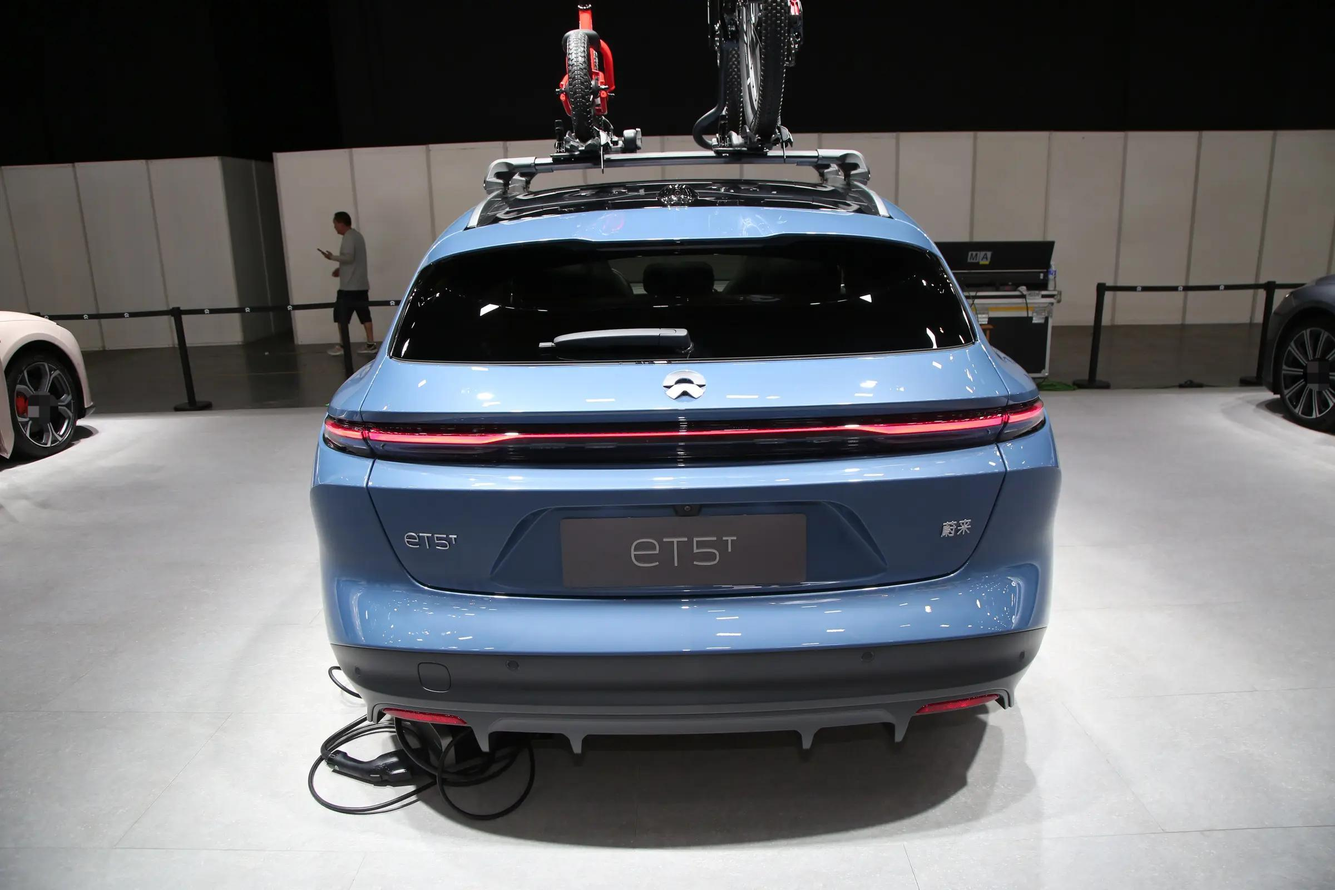NIO: (661, 369, 705, 401)
